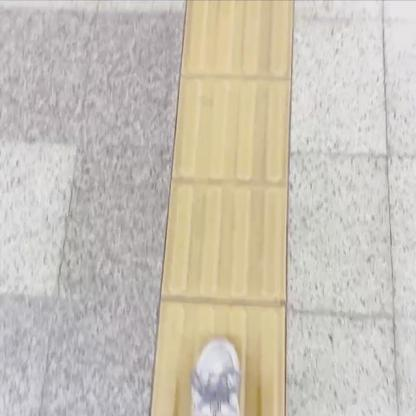podotacti: (148, 3, 296, 415)
